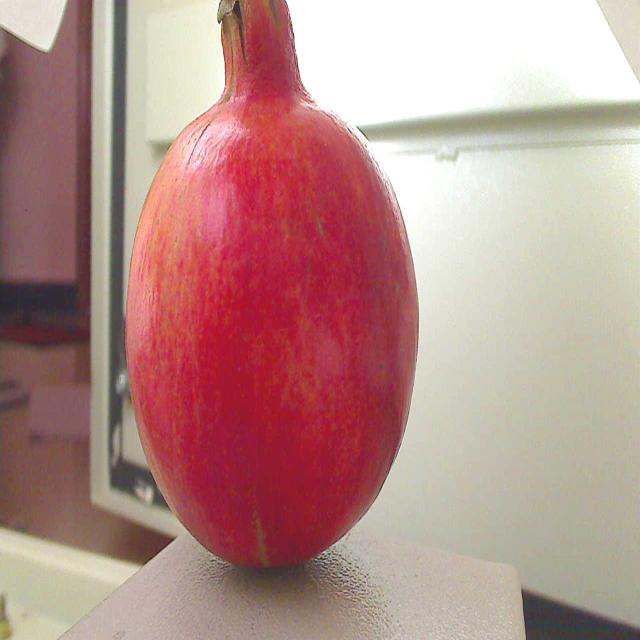pomegranate: (118, 0, 426, 574)
